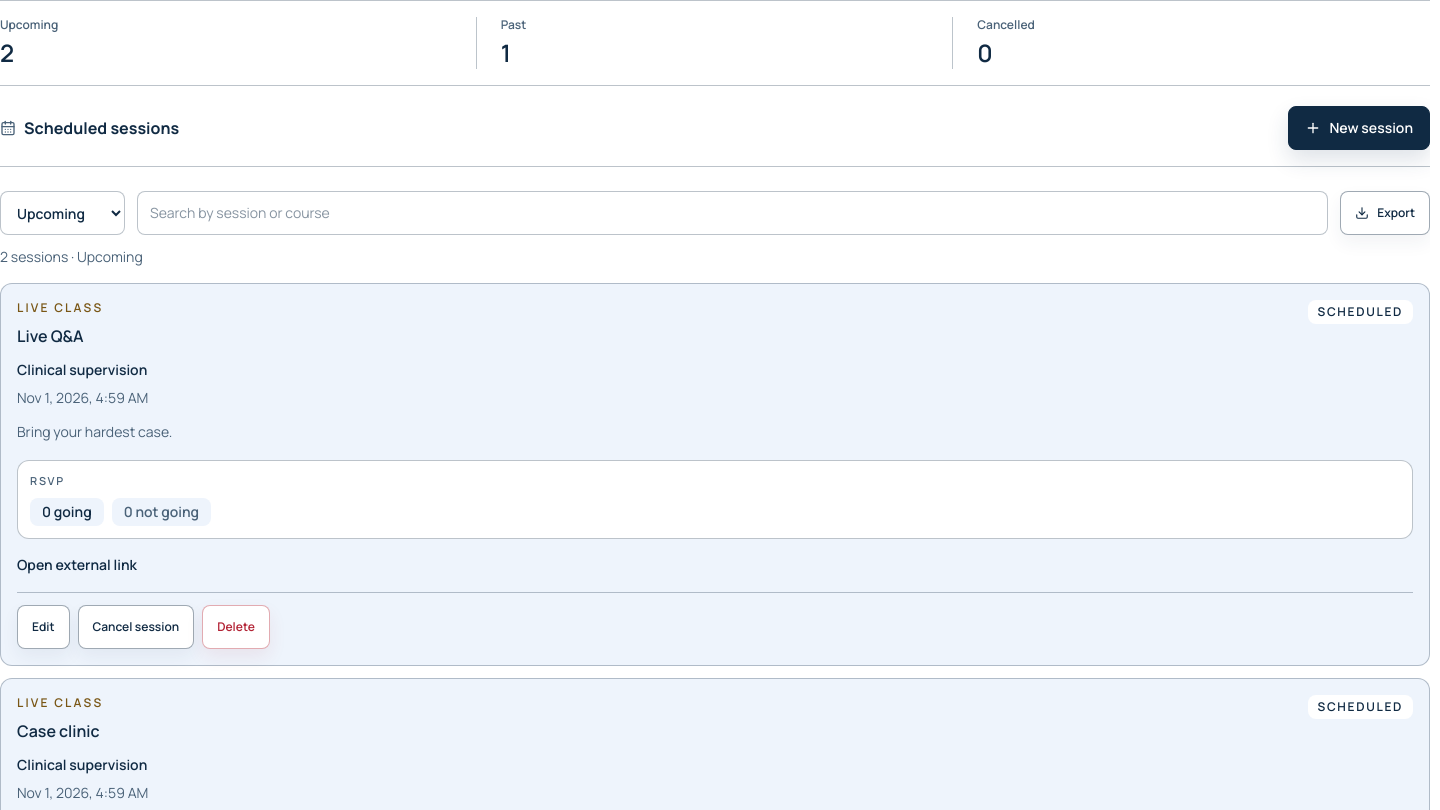
Test: agenda de eventos no padrao da casa › a moldura (filtro, busca, exportar) e a contagem dizem de que recorte a lista fala
Expected: the dropdown named "Filter sessions" is shown, [0, 191, 125, 235]
Expected: the button "Export" is shown, [1340, 191, 1430, 235]
Type "case" into the search field named "Search sessions by title or course". click: (733, 213)
box: [137, 191, 1328, 235]
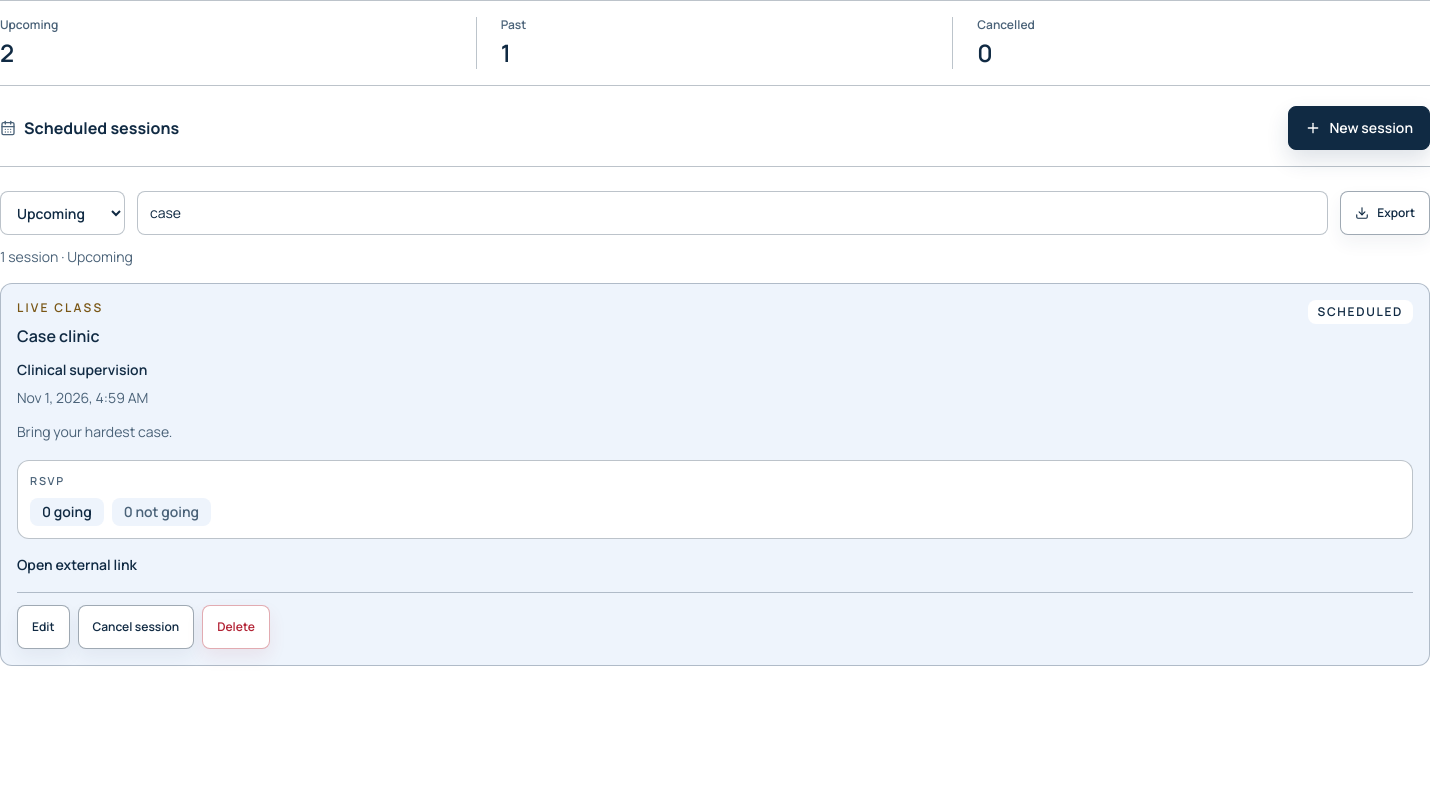
Now the text "1 session · Upcoming" is shown, box [0, 247, 133, 266]
Now the heading "Live Q&A" is gone
Select "Past" in the dropdown named "Filter sessions". click: (62, 213)
box: [0, 191, 125, 235]
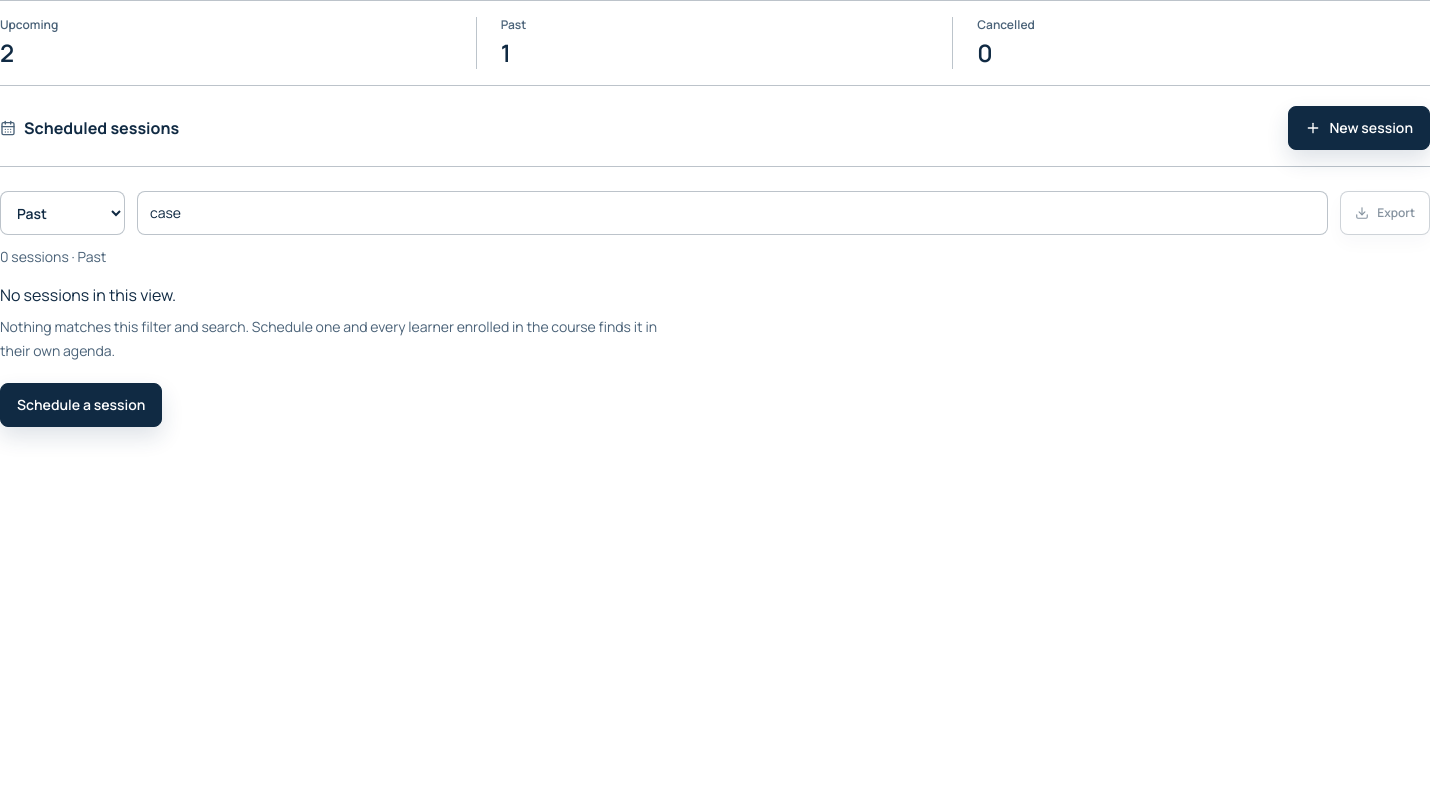
Now the text "0 sessions · Past" is shown, box [0, 247, 106, 266]
